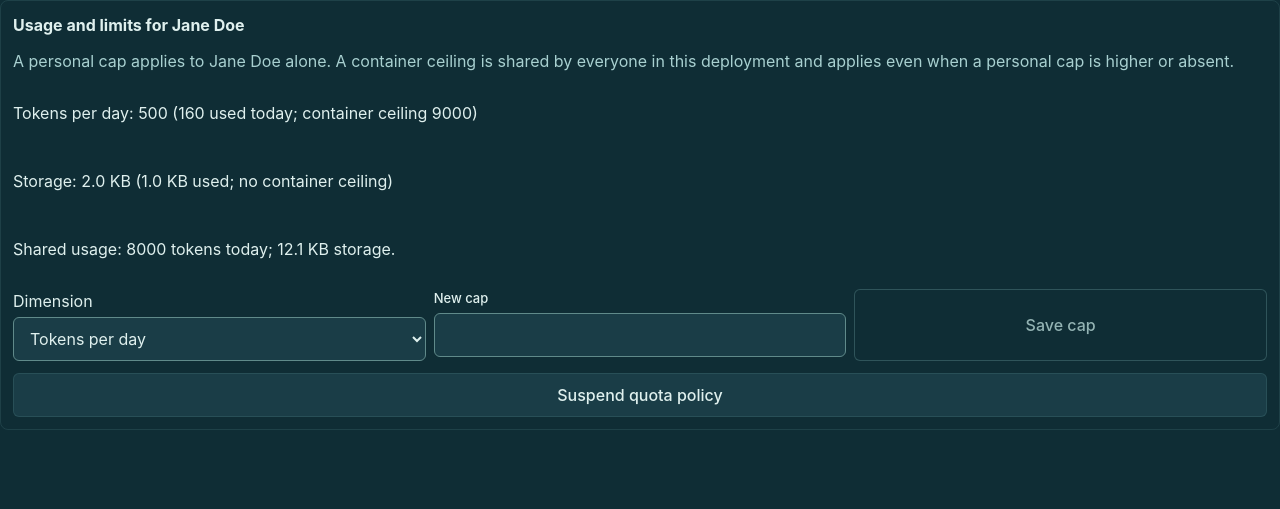
QuotaEditor › shows a backend refusal and preserves the entered value
Expected: the text "Tokens per day: 500 (160 used today; container ceiling 9000)" is shown, [13, 103, 478, 123]
In the field labelled "New cap": [640, 334] box [434, 312, 846, 356], type "42"
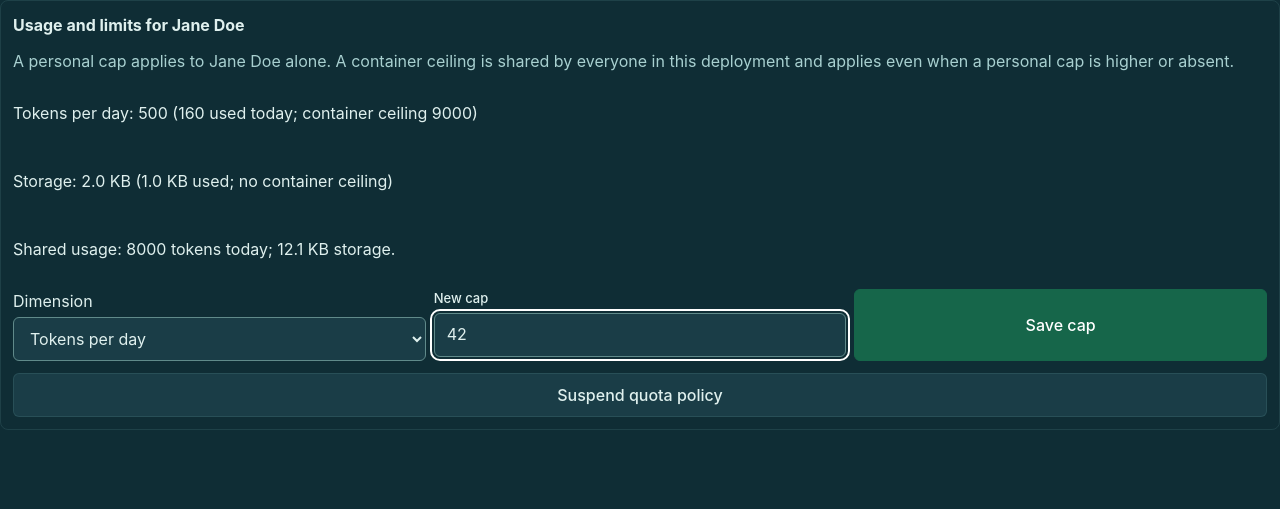
Click the button "Save cap": [1061, 325] box [854, 289, 1267, 361]
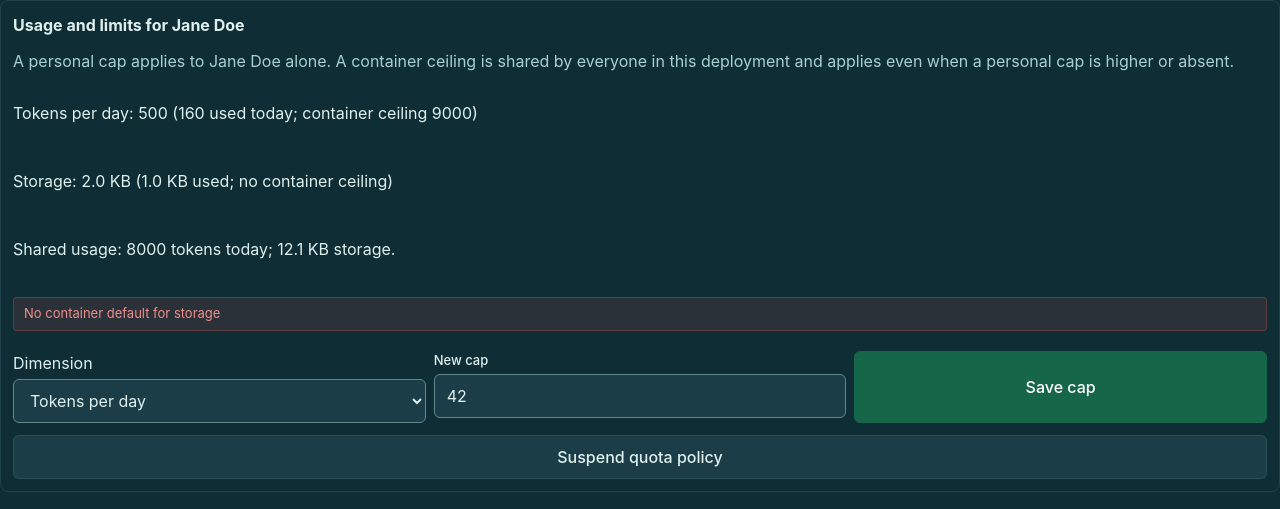
Now the message reads "No container default for storage", box [24, 305, 220, 321]
